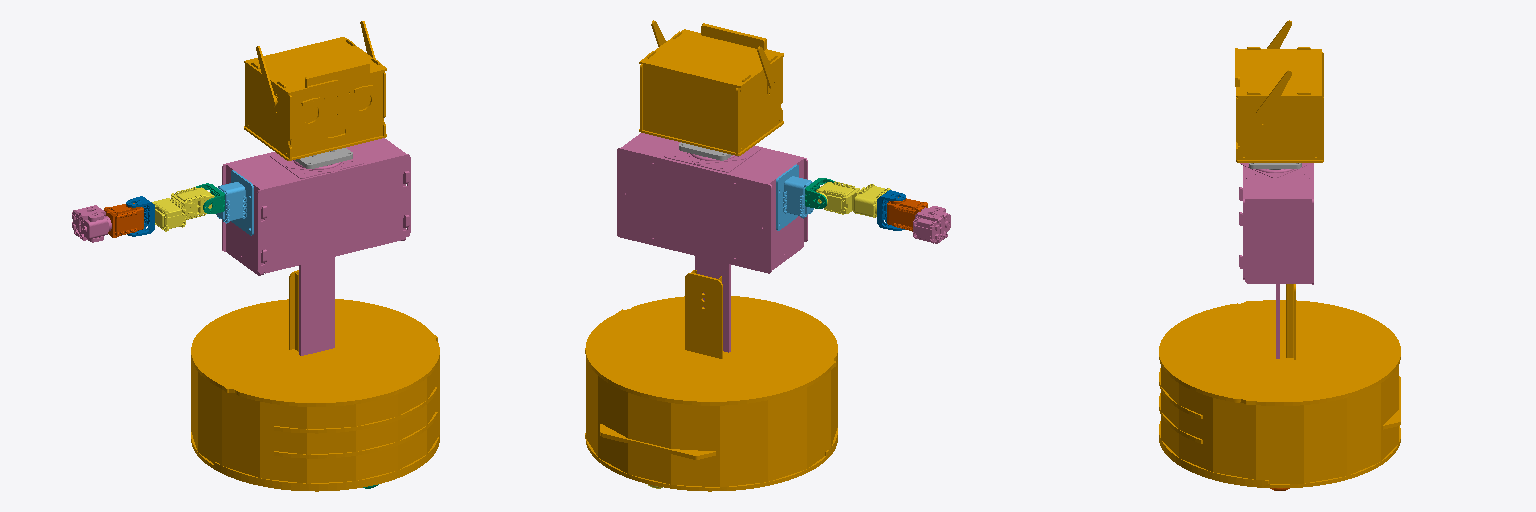
URDF robot description (v2mini):
<?xml version="1.0" ?>
<!-- =================================================================================== -->
<!-- |    This document was autogenerated by xacro from v2mini_robot.gazebo.xacro      | -->
<!-- |    EDITING THIS FILE BY HAND IS NOT RECOMMENDED                                 | -->
<!-- =================================================================================== -->
<robot name="v2mini" xmlns:xacro="http://ros.org/wiki/xacro">
  <!-- Includes -->
  <!-- v2mini body -->
  <!-- base properties -->
  <!-- wheel properties -->
  <!-- torso properties -->
  <!-- Macro for creating base wheels -->
  <!-- v2mini arm -->
  <!-- macro for the rest of the links -->
  <!-- v2mini head -->
  <!-- r200 sensor -->
  <!-- Parametring the positions -->
  <!-- Following values measured on the 3d model -->
  <!--
  Seems like this weird organization is required for move_base to work properly...
  parent > camera_rgb_frame
  -->
  <!-- join the body with head -->
  <joint name="neckpan" type="revolute">
    <parent link="torso_link"/>
    <child link="neck_link"/>
    <axis xyz="0 0 1"/>
    <origin xyz="0 0 0"/>
    <limit effort="10" lower="-2.9" upper="2.9" velocity="10"/>
  </joint>
  <!-- join the body with arm -->
  <joint name="shoulder" type="fixed">
    <parent link="torso_link"/>
    <child link="arm_link1"/>
    <origin xyz="0 0 0"/>
  </joint>
  <!-- **** BASE **** -->
  <link name="base_link">
    <!-- fake inertial values -->
    <inertial>
      <mass value="10"/>
      <inertia ixx="100" ixy="0" ixz="0" iyy="100" iyz="0" izz="100"/>
      <origin/>
    </inertial>
    <visual>
      <origin rpy="0 0 0" xyz="0 0 0.0192"/>
      <geometry>
        <mesh filename="package://v2mini_description/meshes/base/base.dae"/>
      </geometry>
    </visual>
    <collision>
      <origin rpy="0 0 0" xyz="0 0 0.066"/>
      <geometry>
        <cylinder length="0.132" radius="0.175"/>
      </geometry>
    </collision>
  </link>
  <link name="base_footprint"/>
  <joint name="base_footprint_joint" type="fixed">
    <origin rpy="0 0 0" xyz="0 0 0"/>
    <parent link="base_footprint"/>
    <child link="base_link"/>
  </joint>
  <link name="front_wheel">
    <visual>
      <origin rpy="0 0 0.0" xyz="0 0 0"/>
      <geometry>
        <mesh filename="package://v2mini_description/meshes/base/base_wheel.dae"/>
      </geometry>
    </visual>
    <inertial>
      <origin rpy="0 0 0" xyz="0 0 0"/>
      <mass value="1"/>
      <inertia ixx="1.0" ixy="0.0" ixz="0.0" iyy="1.0" iyz="0.0" izz="1.0"/>
    </inertial>
  </link>
  <joint name="front_axel" type="continuous">
    <parent link="base_link"/>
    <child link="front_wheel"/>
    <origin xyz="-0.0 -0.1405 0.03"/>
    <axis xyz="0.0 1 0"/>
  </joint>
  <link name="back_wheel">
    <visual>
      <origin rpy="0 0 3.14159" xyz="0 0 0"/>
      <geometry>
        <mesh filename="package://v2mini_description/meshes/base/base_wheel.dae"/>
      </geometry>
    </visual>
    <inertial>
      <origin rpy="0 0 0" xyz="0 0 0"/>
      <mass value="1"/>
      <inertia ixx="1.0" ixy="0.0" ixz="0.0" iyy="1.0" iyz="0.0" izz="1.0"/>
    </inertial>
  </link>
  <joint name="back_axel" type="continuous">
    <parent link="base_link"/>
    <child link="back_wheel"/>
    <origin xyz="0.0 0.1405 0.03"/>
    <axis xyz="0.0 1 0"/>
  </joint>
  <link name="right_wheel">
    <visual>
      <origin rpy="0 0 -1.570795" xyz="0 0 0"/>
      <geometry>
        <mesh filename="package://v2mini_description/meshes/base/base_wheel.dae"/>
      </geometry>
    </visual>
    <inertial>
      <origin rpy="0 0 0" xyz="0 0 0"/>
      <mass value="1"/>
      <inertia ixx="1.0" ixy="0.0" ixz="0.0" iyy="1.0" iyz="0.0" izz="1.0"/>
    </inertial>
  </link>
  <joint name="right_axel" type="continuous">
    <parent link="base_link"/>
    <child link="right_wheel"/>
    <origin xyz="-0.1405 -0.0 0.03"/>
    <axis xyz="1.0 0 0"/>
  </joint>
  <link name="left_wheel">
    <visual>
      <origin rpy="0 0 1.570795" xyz="0 0 0"/>
      <geometry>
        <mesh filename="package://v2mini_description/meshes/base/base_wheel.dae"/>
      </geometry>
    </visual>
    <inertial>
      <origin rpy="0 0 0" xyz="0 0 0"/>
      <mass value="1"/>
      <inertia ixx="1.0" ixy="0.0" ixz="0.0" iyy="1.0" iyz="0.0" izz="1.0"/>
    </inertial>
  </link>
  <joint name="left_axel" type="continuous">
    <parent link="base_link"/>
    <child link="left_wheel"/>
    <origin xyz="0.1405 0.0 0.03"/>
    <axis xyz="1.0 0 0"/>
  </joint>
  <!-- **** TORSO **** -->
  <link name="torso_link">
    <!-- fake inertial values -->
    <inertial>
      <mass value="5"/>
      <inertia ixx="100" ixy="0" ixz="0" iyy="100" iyz="0" izz="100"/>
      <origin/>
    </inertial>
    <visual>
      <origin rpy="0 0 0" xyz="0 0 0"/>
      <geometry>
        <mesh filename="package://v2mini_description/meshes/torso/torso.dae"/>
      </geometry>
    </visual>
  </link>
  <joint name="torso_slide" type="prismatic">
    <parent link="base_link"/>
    <child link="torso_link"/>
    <origin xyz="0 0 0.0192"/>
    <axis xyz="0 0 1"/>
    <limit effort="10" lower="-0.09" upper="0" velocity="0.5"/>
  </joint>
  <link name="neck_link">
    <visual>
      <origin rpy="0 0 0" xyz="0 0 0"/>
      <geometry>
        <mesh filename="package://v2mini_description/meshes/head/neck.dae"/>
      </geometry>
    </visual>
    <inertial>
      <origin rpy="0 0 0" xyz="0 0 0"/>
      <mass value="1"/>
      <inertia ixx="1.0" ixy="0.0" ixz="0.0" iyy="1.0" iyz="0.0" izz="1.0"/>
    </inertial>
  </link>
  <link name="head_link">
    <visual>
      <origin rpy="0 0 0" xyz="0 0 0"/>
      <geometry>
        <mesh filename="package://v2mini_description/meshes/head/head.dae"/>
      </geometry>
    </visual>
    <inertial>
      <origin rpy="0 0 0" xyz="0 0 0"/>
      <mass value="1"/>
      <inertia ixx="1.0" ixy="0.0" ixz="0.0" iyy="1.0" iyz="0.0" izz="1.0"/>
    </inertial>
  </link>
  <joint name="neck_tilt" type="revolute">
    <parent link="neck_link"/>
    <child link="head_link"/>
    <axis xyz="1 0 0"/>
    <origin xyz="0 0 0.495215"/>
    <limit effort="1000.0" lower="0.3" upper="-0.5" velocity="0.1"/>
  </joint>
  <!-- Attach R200 -->
  <link name="arm_link1">
    <visual>
      <origin rpy="0 0 0" xyz="0 0 0"/>
      <geometry>
        <mesh filename="package://v2mini_description/meshes/arm/arm_link1.dae"/>
      </geometry>
    </visual>
    <collision>
      <origin rpy="0 0 0" xyz="0 0 0"/>
      <geometry>
        <mesh filename="package://v2mini_description/meshes/arm/arm_link1.dae"/>
      </geometry>
    </collision>
    <inertial>
      <origin rpy="0 0 0" xyz="0 0 0"/>
      <mass value="0.01"/>
      <inertia ixx="1.0" ixy="0.0" ixz="0.0" iyy="1.0" iyz="0.0" izz="1.0"/>
    </inertial>
  </link>
  <!-- first additional joint at offset -->
  <link name="arm_link2">
    <visual>
      <origin rpy="0 3.14159 0" xyz="0 0 0"/>
      <geometry>
        <mesh filename="package://v2mini_description/meshes/arm/arm_link2.dae"/>
      </geometry>
    </visual>
    <collision>
      <origin rpy="0 3.14159 0" xyz="0 0 0"/>
      <geometry>
        <mesh filename="package://v2mini_description/meshes/arm/arm_link2.dae"/>
      </geometry>
    </collision>
    <inertial>
      <origin rpy="0 0 0" xyz="0 0 0"/>
      <mass value="0.01"/>
      <inertia ixx="1.0" ixy="0.0" ixz="0.0" iyy="1.0" iyz="0.0" izz="1.0"/>
    </inertial>
  </link>
  <joint name="arm_joint1" type="continuous">
    <parent link="arm_link1"/>
    <child link="arm_link2"/>
    <origin rpy="3.14159 3.14159 0" xyz="-0.158825 -0.002 0.407507"/>
    <limit effort="1000.0" lower="-0.2" upper="2.85" velocity="0.1"/>
  </joint>
  <link name="arm_link3">
    <visual>
      <origin rpy="0 -1.570795  -1.570795" xyz="0 0 0"/>
      <geometry>
        <mesh filename="package://v2mini_description/meshes/arm/arm_link3.dae"/>
      </geometry>
    </visual>
    <collision>
      <origin rpy="0 -1.570795  -1.570795" xyz="0 0 0"/>
      <geometry>
        <mesh filename="package://v2mini_description/meshes/arm/arm_link3.dae"/>
      </geometry>
    </collision>
    <inertial>
      <origin rpy="0 0 0" xyz="0 0 0"/>
      <mass value="0.01"/>
      <inertia ixx="1.0" ixy="0.0" ixz="0.0" iyy="1.0" iyz="0.0" izz="1.0"/>
    </inertial>
  </link>
  <joint name="arm_joint2" type="continuous">
    <parent link="arm_link2"/>
    <child link="arm_link3"/>
    <origin rpy="1.570795 0 4.712385" xyz="0.026 0 0"/>
    <axis xyz="-1 0 0"/>
    <limit effort="1000.0" lower="-0.3" upper="1.6" velocity="0.1"/>
  </joint>
  <link name="arm_link4">
    <visual>
      <origin rpy="1.570795 3.14159  0" xyz="0 0 0"/>
      <geometry>
        <mesh filename="package://v2mini_description/meshes/arm/arm_link4.dae"/>
      </geometry>
    </visual>
    <collision>
      <origin rpy="1.570795 3.14159  0" xyz="0 0 0"/>
      <geometry>
        <mesh filename="package://v2mini_description/meshes/arm/arm_link4.dae"/>
      </geometry>
    </collision>
    <inertial>
      <origin rpy="0 0 0" xyz="0 0 0"/>
      <mass value="0.01"/>
      <inertia ixx="1.0" ixy="0.0" ixz="0.0" iyy="1.0" iyz="0.0" izz="1.0"/>
    </inertial>
  </link>
  <joint name="arm_joint3" type="continuous">
    <parent link="arm_link3"/>
    <child link="arm_link4"/>
    <origin rpy="0 1.570795 0" xyz=" 0 0 -0.0855"/>
    <axis xyz="1 0 0"/>
    <limit effort="1000.0" lower="-3" upper="3" velocity="0.1"/>
  </joint>
  <link name="arm_link5">
    <visual>
      <origin rpy="-1.570795 0 -1.570795" xyz="0 0 0"/>
      <geometry>
        <mesh filename="package://v2mini_description/meshes/arm/arm_link5.dae"/>
      </geometry>
    </visual>
    <collision>
      <origin rpy="-1.570795 0 -1.570795" xyz="0 0 0"/>
      <geometry>
        <mesh filename="package://v2mini_description/meshes/arm/arm_link5.dae"/>
      </geometry>
    </collision>
    <inertial>
      <origin rpy="0 0 0" xyz="0 0 0"/>
      <mass value="0.01"/>
      <inertia ixx="1.0" ixy="0.0" ixz="0.0" iyy="1.0" iyz="0.0" izz="1.0"/>
    </inertial>
  </link>
  <joint name="arm_joint4" type="continuous">
    <parent link="arm_link4"/>
    <child link="arm_link5"/>
    <origin rpy=" -1.570795 0 1.570795" xyz="0.026 0 0"/>
    <axis xyz="-1 0 0"/>
    <limit effort="1000.0" lower="-1.5" upper="1.5" velocity="0.1"/>
  </joint>
  <link name="arm_link6">
    <visual>
      <origin rpy="1.570795 1.570795 0" xyz="0 0 0"/>
      <geometry>
        <mesh filename="package://v2mini_description/meshes/arm/arm_link6.dae"/>
      </geometry>
    </visual>
    <collision>
      <origin rpy="1.570795 1.570795 0" xyz="0 0 0"/>
      <geometry>
        <mesh filename="package://v2mini_description/meshes/arm/arm_link6.dae"/>
      </geometry>
    </collision>
    <inertial>
      <origin rpy="0 0 0" xyz="0 0 0"/>
      <mass value="0.01"/>
      <inertia ixx="1.0" ixy="0.0" ixz="0.0" iyy="1.0" iyz="0.0" izz="1.0"/>
    </inertial>
  </link>
  <joint name="arm_joint5" type="continuous">
    <parent link="arm_link5"/>
    <child link="arm_link6"/>
    <origin rpy="-1.570795 -1.570795 0" xyz="0  0 -0.0415"/>
    <axis xyz="-1 0 0"/>
    <limit effort="1000.0" lower="-3" upper="3" velocity="0.1"/>
  </joint>
  <joint name="ee_joint" type="fixed">
    <parent link="arm_link6"/>
    <child link="ee_link"/>
    <origin rpy="0 0 0" xyz="0 0 0"/>
  </joint>
  <!-- Add end effector -->
  <link name="ee_link">
    <collision>
      <geometry>
        <box size="0.01 0.01 0.01"/>
      </geometry>
      <origin rpy="0 0 0" xyz="0 0 0"/>
    </collision>
    <inertial>
      <origin rpy="0 0 0" xyz="0 0 0"/>
      <mass value="1"/>
      <inertia ixx="1.0" ixy="0.0" ixz="0.0" iyy="1.0" iyz="0.0" izz="1.0"/>
    </inertial>
  </link>
  <!-- Add the gazebo plugins here -->
  <gazebo>
    <plugin filename="libgazebo_ros_control.so" name="ros_control">
      <robotNamespace>/</robotNamespace>
      <robotSimType>gazebo_ros_control/DefaultRobotHWSim</robotSimType>
    </plugin>
  </gazebo>
  <!-- Planar move base plugin -->
  <gazebo>
    <plugin filename="libgazebo_ros_planar_move.so" name="object_controller">
      <commandTopic>cmd_vel</commandTopic>
      <odometryTopic>odom</odometryTopic>
      <odometryFrame>odom</odometryFrame>
      <odometryRate>20.0</odometryRate>
      <robotBaseFrame>base_footprint</robotBaseFrame>
    </plugin>
  </gazebo>
  <gazebo>
    <plugin filename="libgazebo_ros_imu.so" name="gazebo_imu">
      <alwaysOn>true</alwaysOn>
      <bodyName>base_footprint</bodyName>
      <topicName>imu</topicName>
      <serviceName>imu_service</serviceName>
      <gaussianNoise>0.0</gaussianNoise>
      <updateRate>20.0</updateRate>
    </plugin>
  </gazebo>
  <!--   <gazebo>
     <plugin name="gazebo_realsense" filename="librealsense_gazebo_plugin.so">
     </plugin>
   </gazebo>
-->
  <!-- Instantiate transmissions -->
  <transmission name="arm_joint1_trans">
    <type>transmission_interface/SimpleTransmission</type>
    <joint name="arm_joint1">
      <hardwareInterface>PositionJointInterface</hardwareInterface>
    </joint>
    <actuator name="arm_joint1_motor">
      <mechanicalReduction>1</mechanicalReduction>
    </actuator>
  </transmission>
  <transmission name="arm_joint2_trans">
    <type>transmission_interface/SimpleTransmission</type>
    <joint name="arm_joint2">
      <hardwareInterface>PositionJointInterface</hardwareInterface>
    </joint>
    <actuator name="arm_joint2_motor">
      <mechanicalReduction>1</mechanicalReduction>
    </actuator>
  </transmission>
  <transmission name="arm_joint3_trans">
    <type>transmission_interface/SimpleTransmission</type>
    <joint name="arm_joint3">
      <hardwareInterface>PositionJointInterface</hardwareInterface>
    </joint>
    <actuator name="arm_joint3_motor">
      <mechanicalReduction>1</mechanicalReduction>
    </actuator>
  </transmission>
  <transmission name="arm_joint4_trans">
    <type>transmission_interface/SimpleTransmission</type>
    <joint name="arm_joint4">
      <hardwareInterface>PositionJointInterface</hardwareInterface>
    </joint>
    <actuator name="arm_joint4_motor">
      <mechanicalReduction>1</mechanicalReduction>
    </actuator>
  </transmission>
  <transmission name="arm_joint5_trans">
    <type>transmission_interface/SimpleTransmission</type>
    <joint name="arm_joint5">
      <hardwareInterface>PositionJointInterface</hardwareInterface>
    </joint>
    <actuator name="arm_joint5_motor">
      <mechanicalReduction>1</mechanicalReduction>
    </actuator>
  </transmission>
  <transmission name="torso_slide_trans">
    <type>transmission_interface/SimpleTransmission</type>
    <joint name="torso_slide">
      <hardwareInterface>PositionJointInterface</hardwareInterface>
    </joint>
    <actuator name="torso_slide_motor">
      <mechanicalReduction>1</mechanicalReduction>
    </actuator>
  </transmission>
  <transmission name="neck_tilt">
    <type>transmission_interface/SimpleTransmission</type>
    <joint name="neck_tilt">
      <hardwareInterface>PositionJointInterface</hardwareInterface>
    </joint>
    <actuator name="neck_tilt_motor">
      <mechanicalReduction>1</mechanicalReduction>
    </actuator>
  </transmission>
  <transmission name="neckpan_trans">
    <type>transmission_interface/SimpleTransmission</type>
    <joint name="neckpan">
      <hardwareInterface>PositionJointInterface</hardwareInterface>
    </joint>
    <actuator name="neckpan_motor">
      <mechanicalReduction>1</mechanicalReduction>
    </actuator>
  </transmission>
</robot>

--- Render facts (derived) ---
Views: 3 orthographic renders of the robot side by side, from view 1: azimuth 30°, elevation 25°; view 2: azimuth 150°, elevation 25°; view 3: azimuth 270°, elevation 25°.
Robot: v2mini — 16 links, 15 joints (2 revolute, 9 continuous, 1 prismatic, 3 fixed); root link base_footprint; default pose: every joint at zero.
Links seen in each view (by area): view 1: base_link, torso_link, head_link, arm_link3, arm_link1, arm_link6, arm_link5, neck_link, arm_link4; view 2: base_link, torso_link, head_link, arm_link3, arm_link1, arm_link6, arm_link5, arm_link4; view 3: base_link, head_link, torso_link.
Boxes of the visible links, bbox=[...] form: base_link: bbox=[191, 270, 439, 491]; torso_link: bbox=[222, 138, 410, 355]; head_link: bbox=[244, 21, 386, 160]; arm_link3: bbox=[152, 187, 214, 231]; arm_link1: bbox=[216, 170, 253, 235]; arm_link6: bbox=[72, 205, 111, 242]; arm_link5: bbox=[104, 203, 143, 237]; neck_link: bbox=[295, 148, 352, 168]; arm_link4: bbox=[126, 196, 154, 236]; base_link: bbox=[585, 270, 837, 491]; torso_link: bbox=[617, 133, 807, 352]; head_link: bbox=[639, 20, 783, 155]; arm_link3: bbox=[816, 181, 890, 217]; arm_link1: bbox=[776, 164, 813, 230]; arm_link6: bbox=[913, 206, 950, 243]; arm_link5: bbox=[887, 197, 927, 231]; arm_link4: bbox=[877, 190, 905, 230]; base_link: bbox=[1159, 284, 1400, 487]; head_link: bbox=[1235, 20, 1323, 162]; torso_link: bbox=[1239, 163, 1313, 358].
Bounding box of the posed robot: 0.5528 × 0.35 × 0.6367 m (x, y, z).
14 mesh visuals loaded from 11 distinct referenced files (11 Collada DAE).